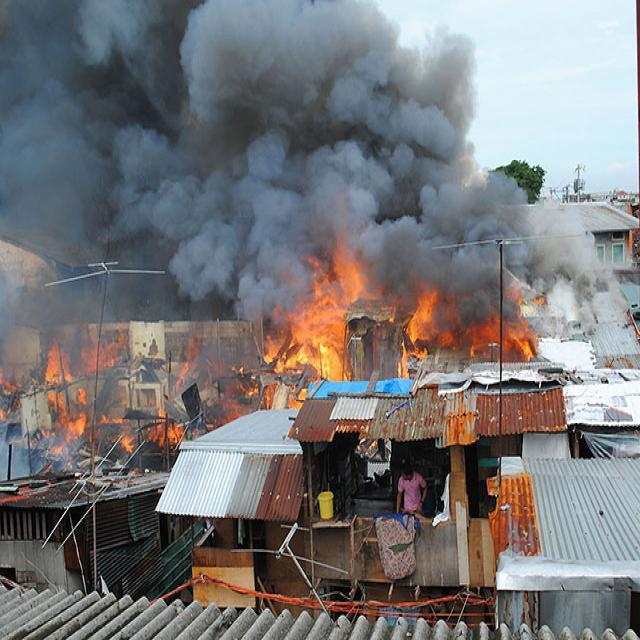Fire: (262, 258, 364, 402), (36, 334, 94, 459), (468, 290, 541, 378), (392, 285, 447, 383), (137, 403, 207, 471)
Smoke: (0, 0, 540, 282)
